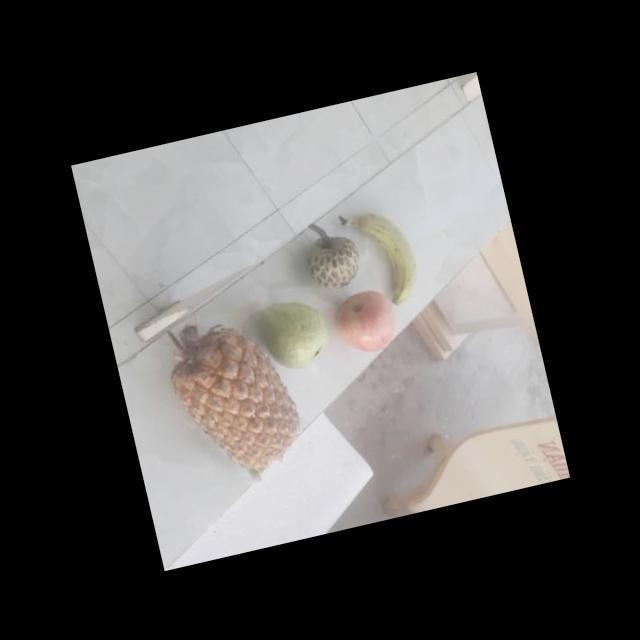Sakya fruit: (301, 227, 366, 295)
apple: (330, 282, 402, 358)
guava: (352, 200, 428, 310), (254, 292, 334, 376)
pineapple: (156, 318, 308, 491)
